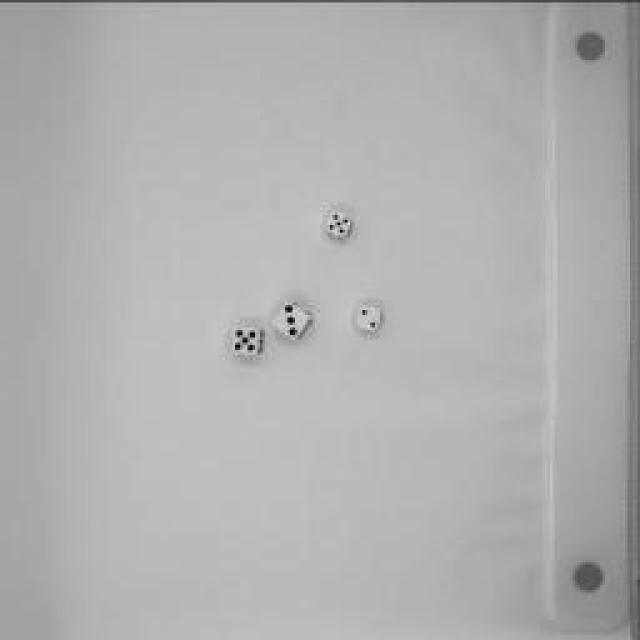dice_2: (351, 296, 389, 334)
dice_3: (268, 294, 318, 341)
dice_5: (228, 315, 268, 365), (322, 202, 356, 242)
